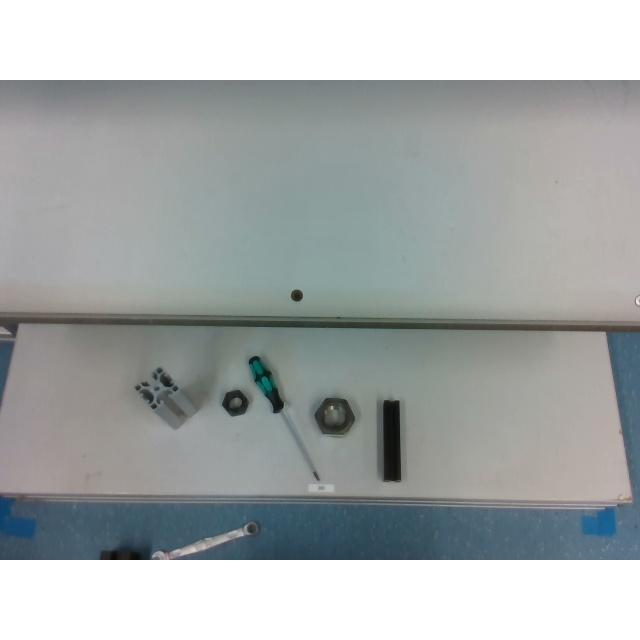F20_20_B: (379, 398, 401, 482)
M20: (222, 390, 248, 416)
M30: (314, 398, 354, 434)
S40_40_G: (134, 367, 198, 429)
Screwdriver: (247, 356, 319, 480)
